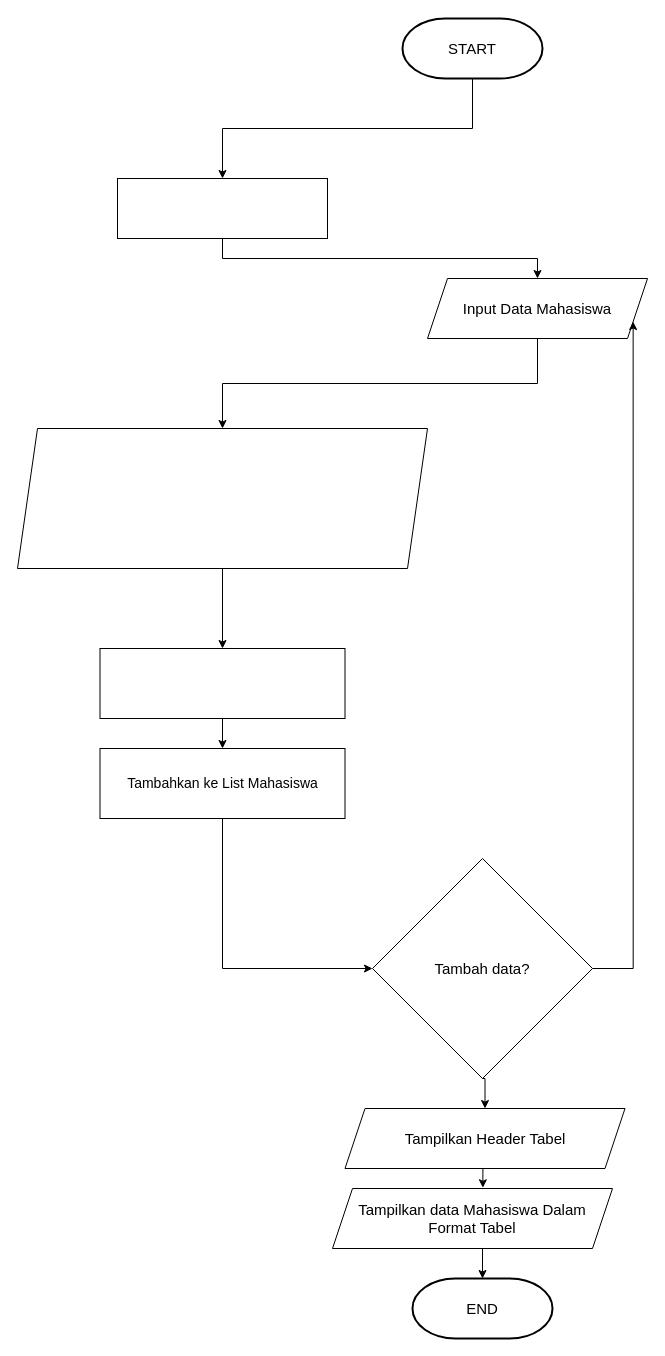
This 665x1356 diagram has some shape labels left out. The shapes that lost their labels are listed below. From the top down, each one's box as (x1, y1, x2, y2) in pixels, then its label:
(116, 178, 328, 238): Inisialisasi List Mahasiswa
(16, 428, 428, 568): Input Detail Mahasiswa Nama NIM Nilai Tugas Nilai UTS Nilai UAS
(99, 648, 345, 718): Hitung Nilai Akhir
